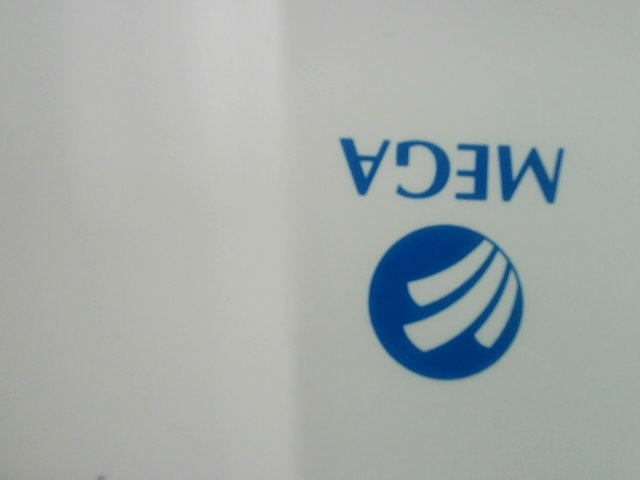AM_ZTEMEGA: (325, 123, 581, 387)
